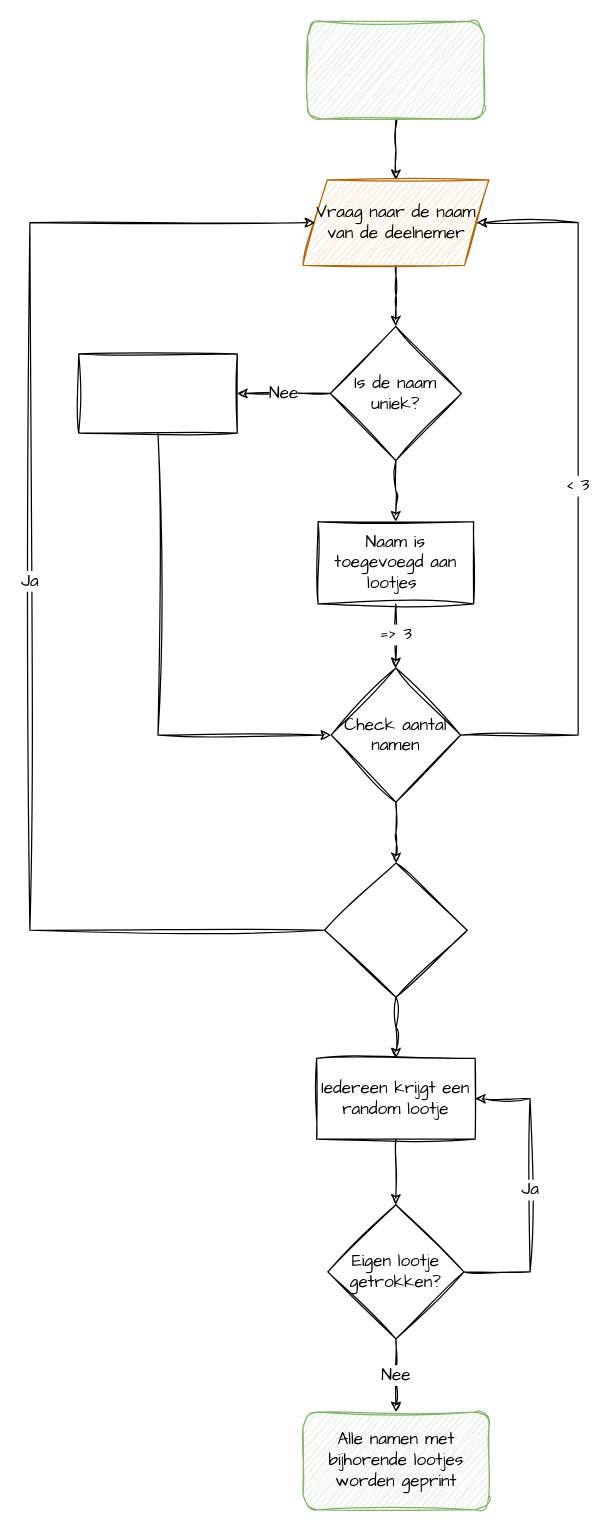
The diagram is 611 pixels wide and 1531 high, and some of its shapes have lost their labels. The shapes that lost their labels are listed below. From the top down, each one's centre as x and y in pixels, then its label:
point 395,69: Start
point 157,393: Naam telt niet
point 395,929: Nog meer namen toevoegen?
